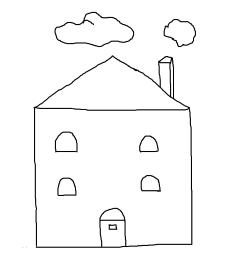chimney: (154, 55, 175, 100)
clouds: (53, 10, 133, 47), (161, 18, 196, 48)
door: (95, 201, 134, 250)
open_window: (55, 132, 78, 153), (138, 133, 160, 153), (57, 177, 78, 196), (140, 174, 161, 192)
roof: (34, 55, 193, 114)
wall: (30, 104, 194, 252)
